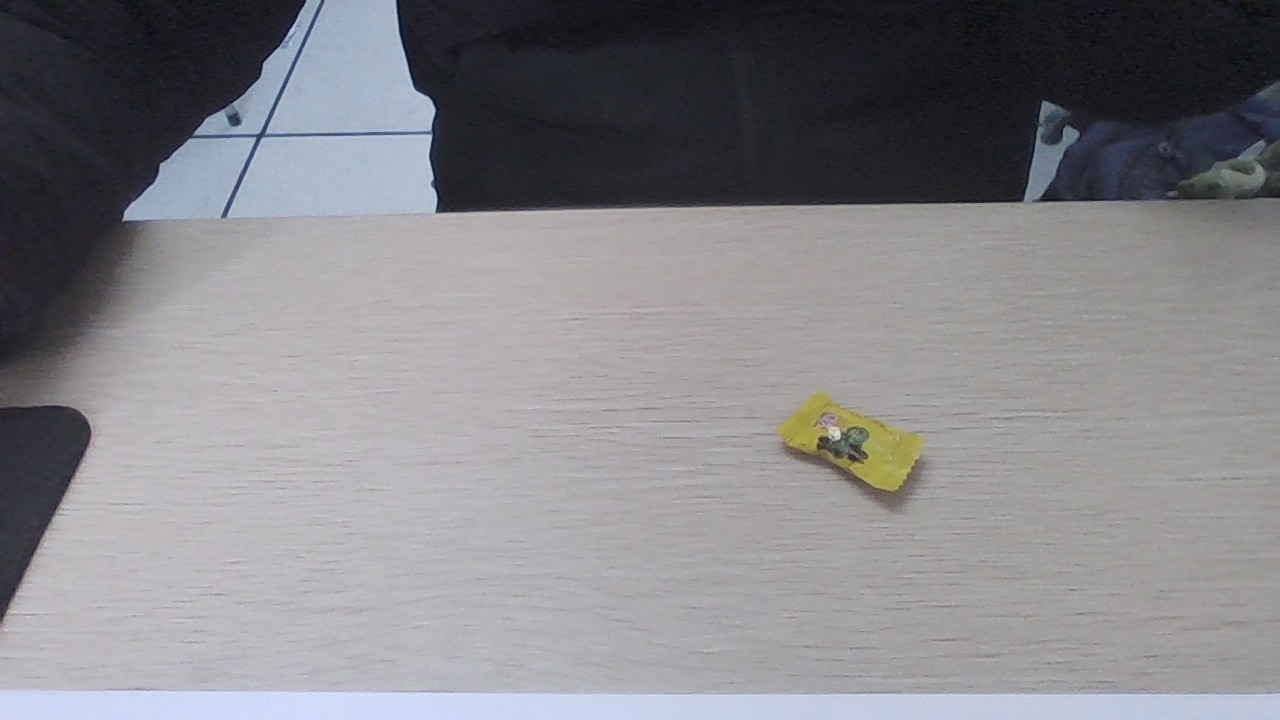CY-sugar: (780, 406, 911, 486)
